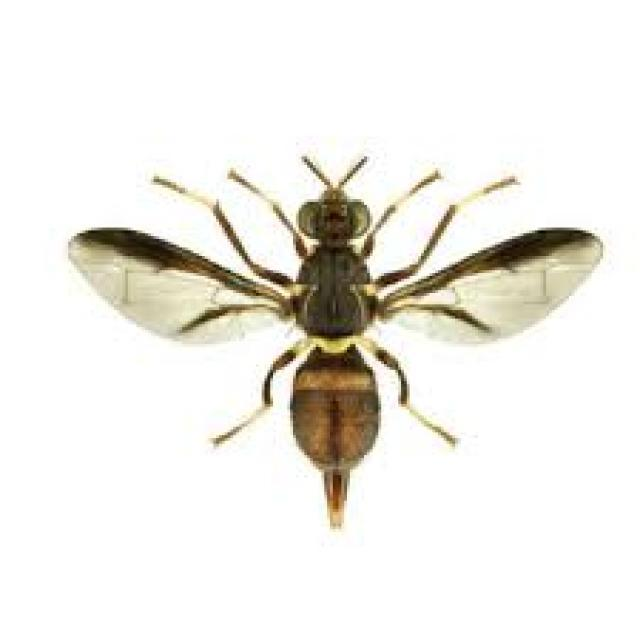Fruit fly: (52, 148, 615, 544)
